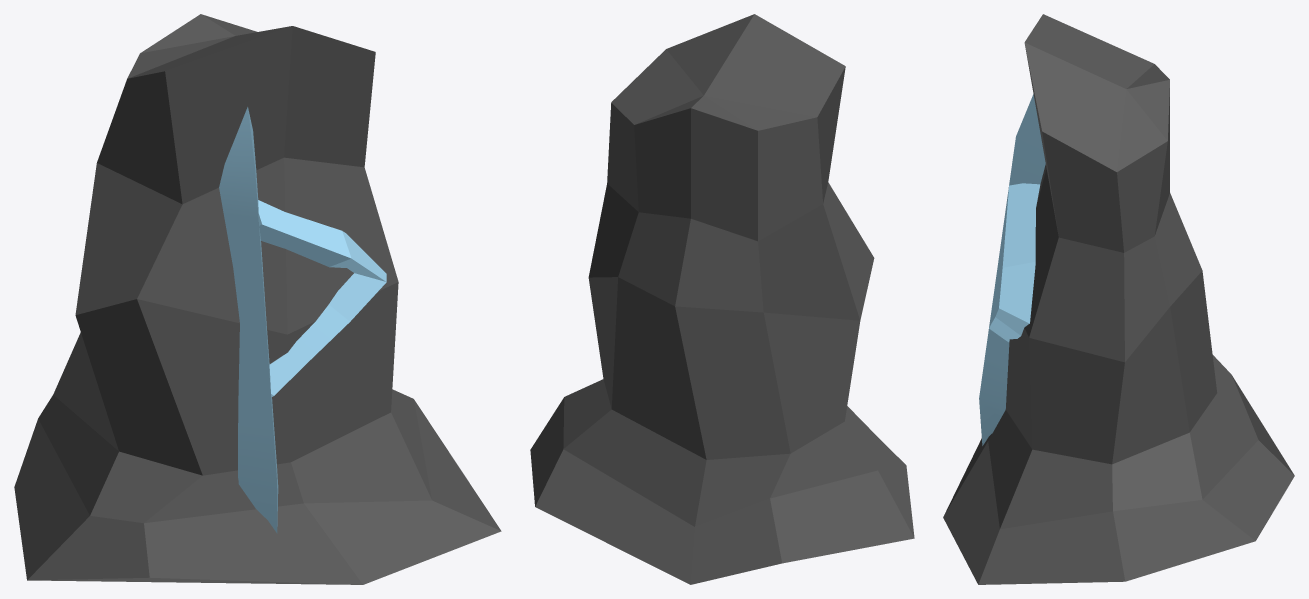
Rendered from Rune_Thurisaz.fbx.
3 renders of one model, left to right at view 1: azimuth 30°, elevation 25°; view 2: azimuth 150°, elevation 25°; view 3: azimuth 270°, elevation 25°, orthographic. The views are drawn at different scales.
Visible parts, largest first — view 1: Thurisaz; view 2: Thurisaz; view 3: Thurisaz.
Part boxes in pixels (x1,y1,x2,y2): Thurisaz: [14, 14, 501, 584]; Thurisaz: [530, 14, 914, 584]; Thurisaz: [943, 14, 1294, 584].
Bounding box in the file's own units: 309 × 366 × 250.
